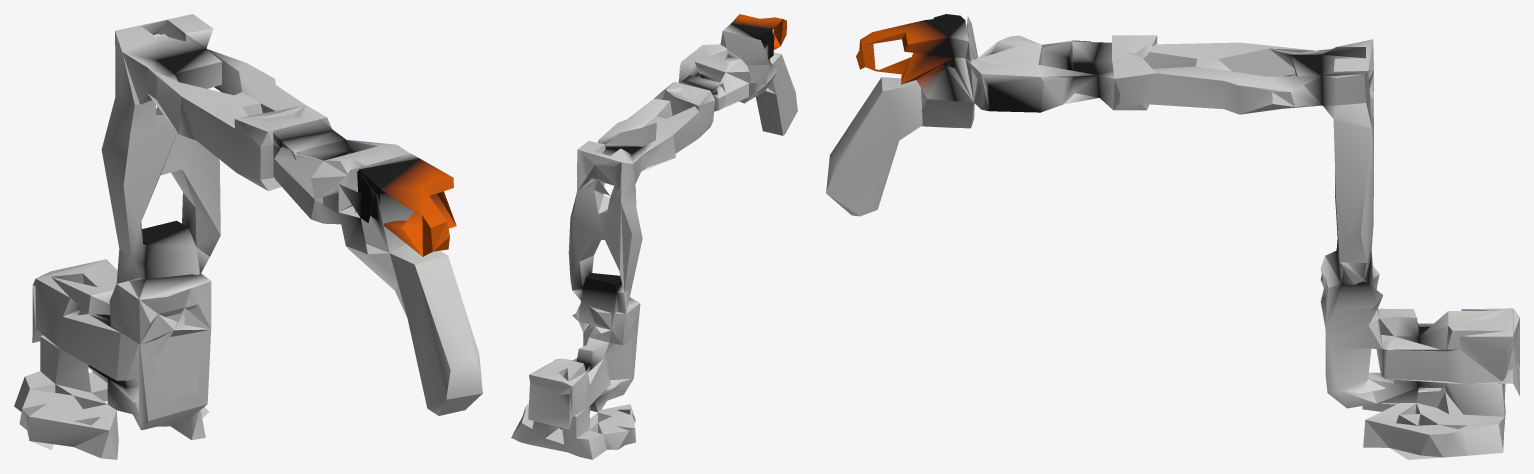
Rendered from so101-leader.l2.glb.
The picture shows the model from 3 angles, left to right: view 1: azimuth 30°, elevation 25°; view 2: azimuth 150°, elevation 25°; view 3: azimuth 270°, elevation 25°; orthographic projection. The views are drawn at different scales.
Parts seen in each view (by area): view 1: so101-leader__l2; view 2: so101-leader__l2; view 3: so101-leader__l2.
Part boxes in pixels (x1,y1,x2,y2): so101-leader__l2: (14, 14, 482, 459); so101-leader__l2: (511, 14, 797, 459); so101-leader__l2: (826, 14, 1519, 459).
Bounding box in the file's own units: 0.1049 × 0.2675 × 0.4194.
